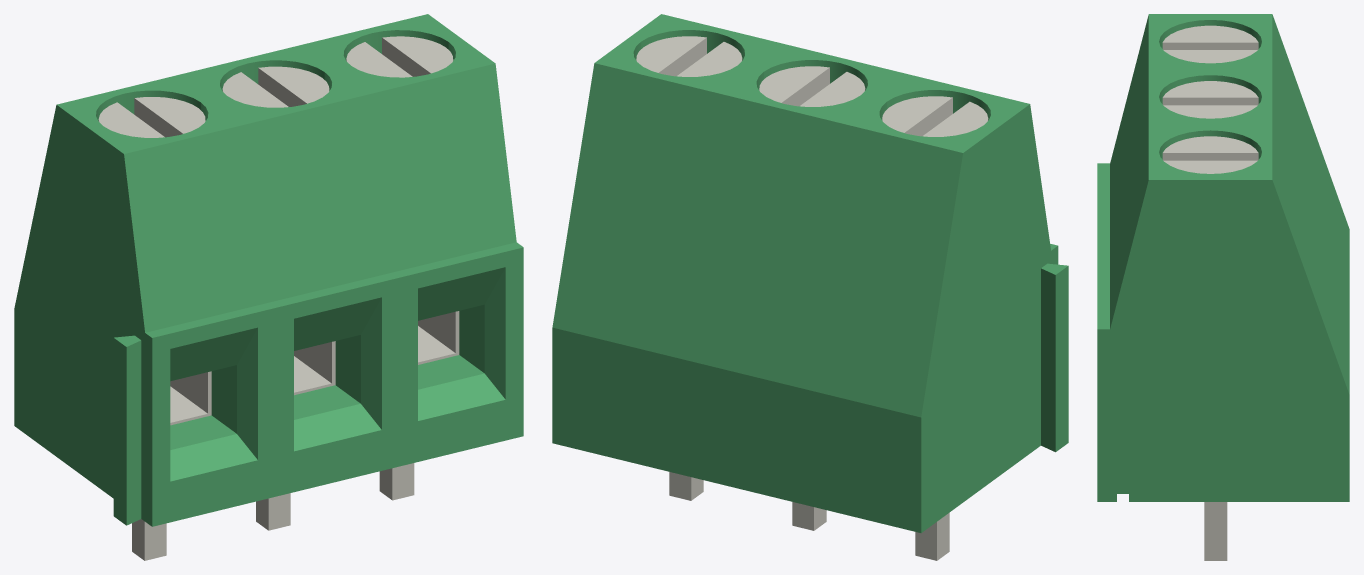
File: kc-terminalblock_phoenix_mkds-1_5-3-5.08_1x03_p5.08mm_horizontal.glb
3 views of the same model, side by side, from view 1: azimuth 30°, elevation 25°; view 2: azimuth 150°, elevation 25°; view 3: azimuth 270°, elevation 25° (orthographic). The views are drawn at different scales.
Visible parts, largest first — view 1: 0.08333333333333333_0.4166666666666667_0.16666666666666666_0, 0.6666666666666666_0.6666666666666666_0.5833333333333334_0.8; view 2: 0.08333333333333333_0.4166666666666667_0.16666666666666666_0, 0.6666666666666666_0.6666666666666666_0.5833333333333334_0.8; view 3: 0.08333333333333333_0.4166666666666667_0.16666666666666666_0, 0.6666666666666666_0.6666666666666666_0.5833333333333334_0.8.
Boxes of the visible parts, box(x1,y1,x2,y2) form: 0.08333333333333333_0.4166666666666667_0.16666666666666666_0: box(14, 14, 523, 526); 0.6666666666666666_0.6666666666666666_0.5833333333333334_0.8: box(98, 36, 459, 560); 0.08333333333333333_0.4166666666666667_0.16666666666666666_0: box(552, 14, 1068, 532); 0.6666666666666666_0.6666666666666666_0.5833333333333334_0.8: box(636, 36, 988, 560); 0.08333333333333333_0.4166666666666667_0.16666666666666666_0: box(1097, 14, 1349, 501); 0.6666666666666666_0.6666666666666666_0.5833333333333334_0.8: box(1162, 25, 1258, 560).
Size of the model in its own units: 1.6 by 1.73 by 0.98.
